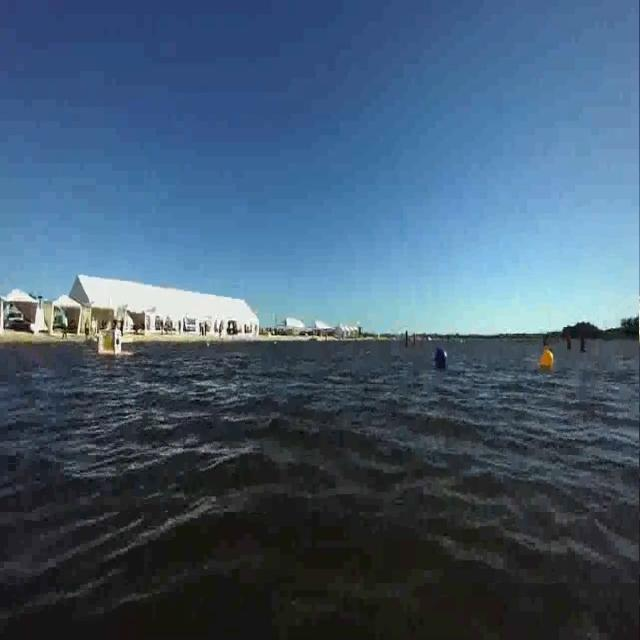blue-buoy: (433, 346, 448, 370)
red-column-buoy: (565, 329, 573, 352)
yellow-buoy: (541, 347, 556, 371)
